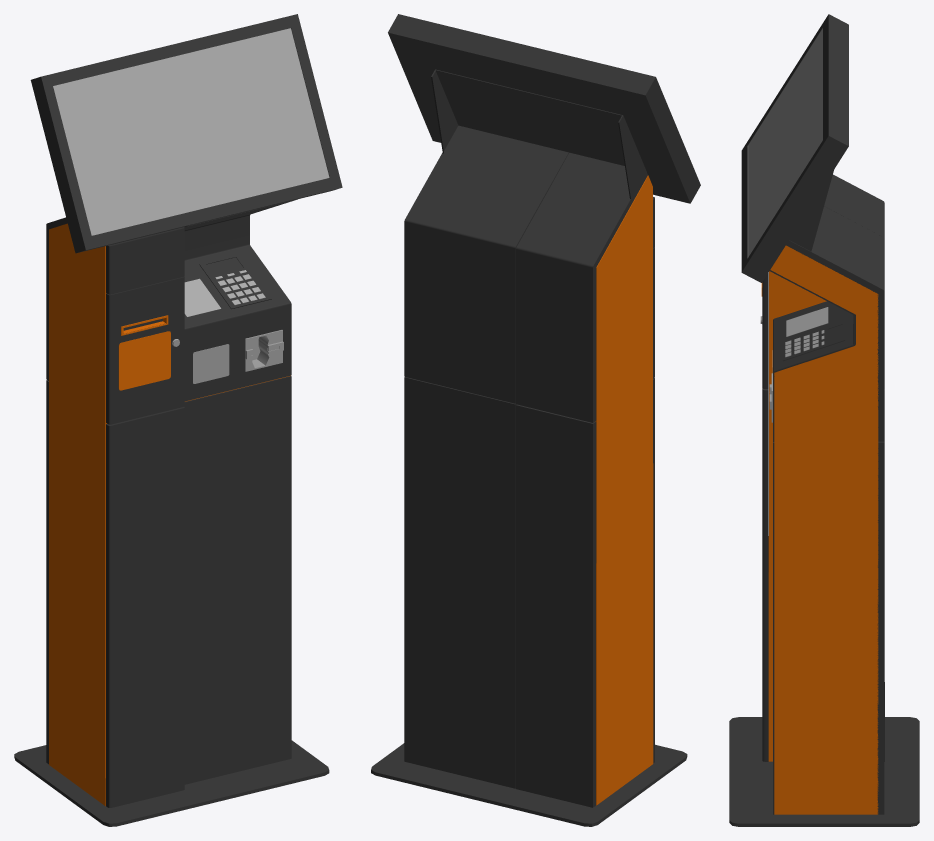
Rendered from UTC-752st.fbx.
3 renders of one model, left to right at view 1: azimuth 30°, elevation 25°; view 2: azimuth 150°, elevation 25°; view 3: azimuth 270°, elevation 25°, orthographic. The views are drawn at different scales.
Visible parts, largest first — view 1: B, A; view 2: B, A; view 3: B, A.
Part boxes in pixels (x1,y1,x2,y2): B: (14, 199, 329, 826); A: (30, 14, 342, 253); B: (371, 125, 687, 826); A: (388, 14, 700, 203); B: (729, 174, 919, 826); A: (741, 14, 848, 282).
Bounding box in the file's own units: 56.1 × 150 × 37.01.
